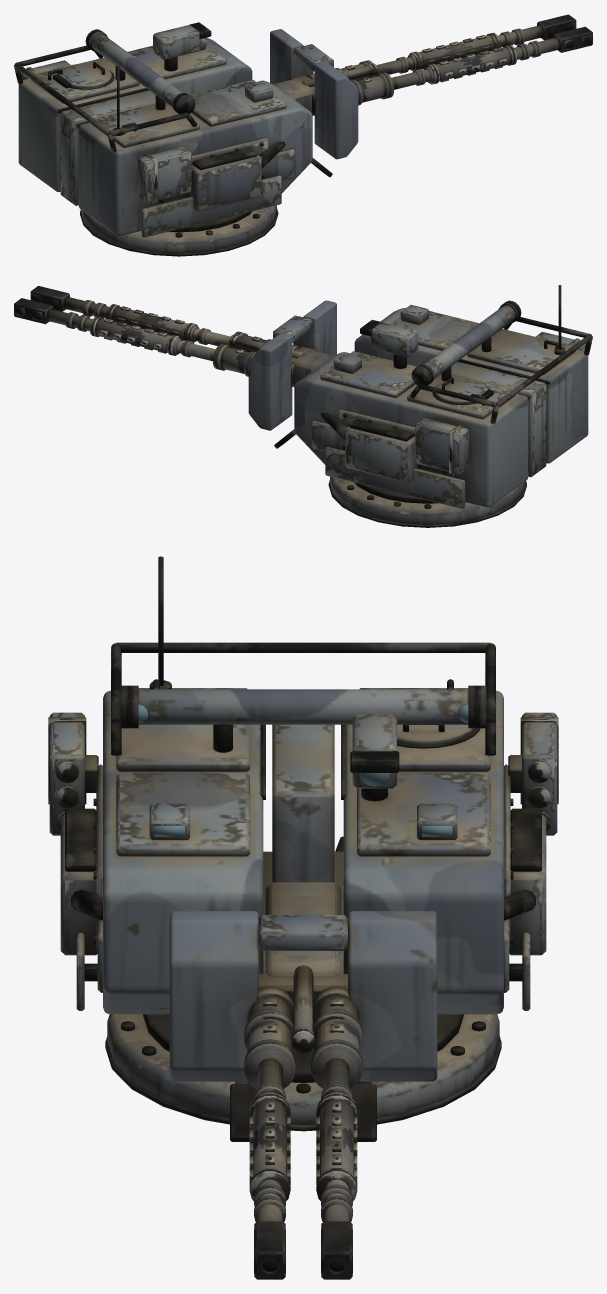
Rendered from turret_kit_t3_sea_fog.glb.
The picture shows the model from 3 angles, top to bottom: view 1: azimuth 30°, elevation 25°; view 2: azimuth 150°, elevation 25°; view 3: azimuth 270°, elevation 25°; orthographic projection. The views are drawn at different scales.
Visible parts, largest first — view 1: turret_twin_t3, guns, pods; view 2: turret_twin_t3, guns, pods; view 3: turret_twin_t3, guns, pods.
Part boxes in pixels (bbox=[...]): turret_twin_t3: bbox=[14, 22, 358, 256]; guns: bbox=[273, 14, 592, 115]; pods: bbox=[21, 60, 191, 202]; turret_twin_t3: bbox=[248, 285, 592, 527]; guns: bbox=[14, 286, 333, 387]; pods: bbox=[415, 331, 586, 474]; turret_twin_t3: bbox=[60, 556, 546, 1141]; guns: bbox=[244, 882, 362, 1279]; pods: bbox=[48, 712, 558, 835].
Size of the model in its own units: 2.7 by 0.98 by 1.15.
4 materials, 3 textured.
